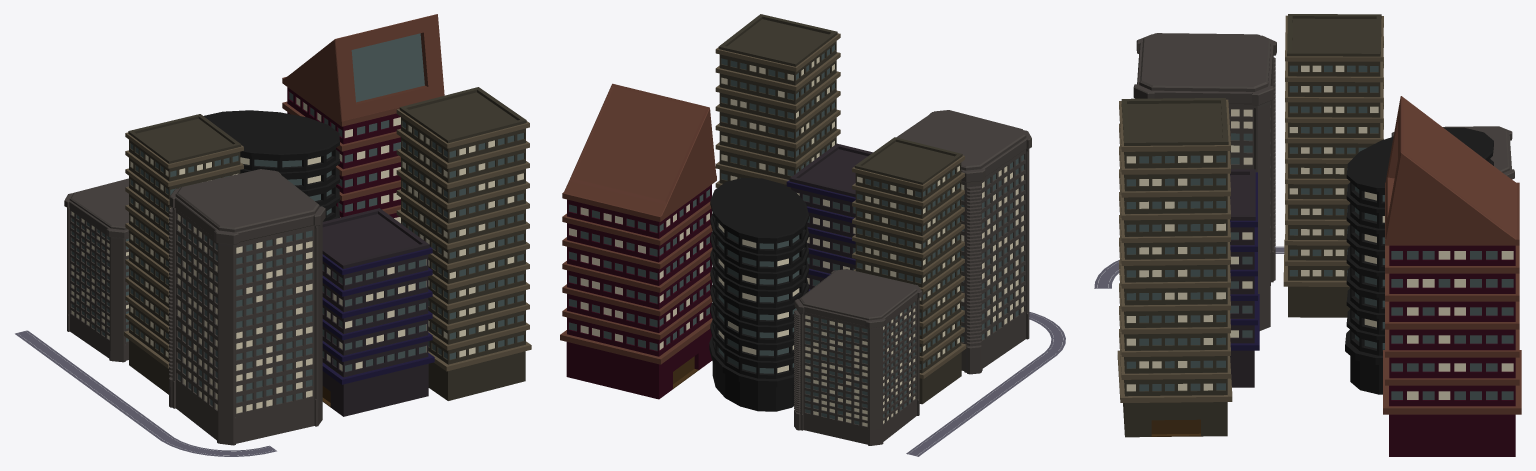
File: TokyoCityTestfbx.fbx
The picture shows the model from 3 angles, left to right: view 1: azimuth 30°, elevation 25°; view 2: azimuth 150°, elevation 25°; view 3: azimuth 270°, elevation 25°; orthographic projection. The views are drawn at different scales.
Parts seen in each view (by area): view 1: Building1.001, Building2.002, Building7.001, Building5.003, Building2.001, Building1.002, Building3.001, Plane.002; view 2: Building5.003, Building3.001, Building1.002, Building2.001, Building1.001, Building2.002, Building7.001, Plane.002; view 3: Building5.003, Building2.002, Building2.001, Building1.001, Building3.001, Building7.001, Building1.002, Plane.002.
Boxes of the visible parts, <box> form: Building1.001: <box>169,169,325,445</box>; Building2.002: <box>396,87,531,400</box>; Building7.001: <box>322,208,434,416</box>; Building5.003: <box>282,14,444,223</box>; Building2.001: <box>124,114,243,394</box>; Building1.002: <box>64,178,128,362</box>; Building3.001: <box>204,110,339,221</box>; Plane.002: <box>15,330,276,456</box>; Building5.003: <box>560,83,716,399</box>; Building3.001: <box>709,177,808,411</box>; Building1.002: <box>794,269,922,445</box>; Building2.001: <box>852,137,966,404</box>; Building1.001: <box>896,110,1031,374</box>; Building2.002: <box>715,14,840,188</box>; Building7.001: <box>786,143,872,291</box>; Plane.002: <box>906,312,1065,456</box>; Building5.003: <box>1383,96,1521,456</box>; Building2.002: <box>1117,98,1232,437</box>; Building2.001: <box>1283,14,1383,317</box>; Building1.001: <box>1133,33,1276,330</box>; Building3.001: <box>1345,127,1493,394</box>; Building7.001: <box>1230,169,1259,387</box>; Building1.002: <box>1391,126,1514,179</box>; Plane.002: <box>1094,246,1284,288</box>.
Bounding box in the file's own units: 418 × 478 × 331.
